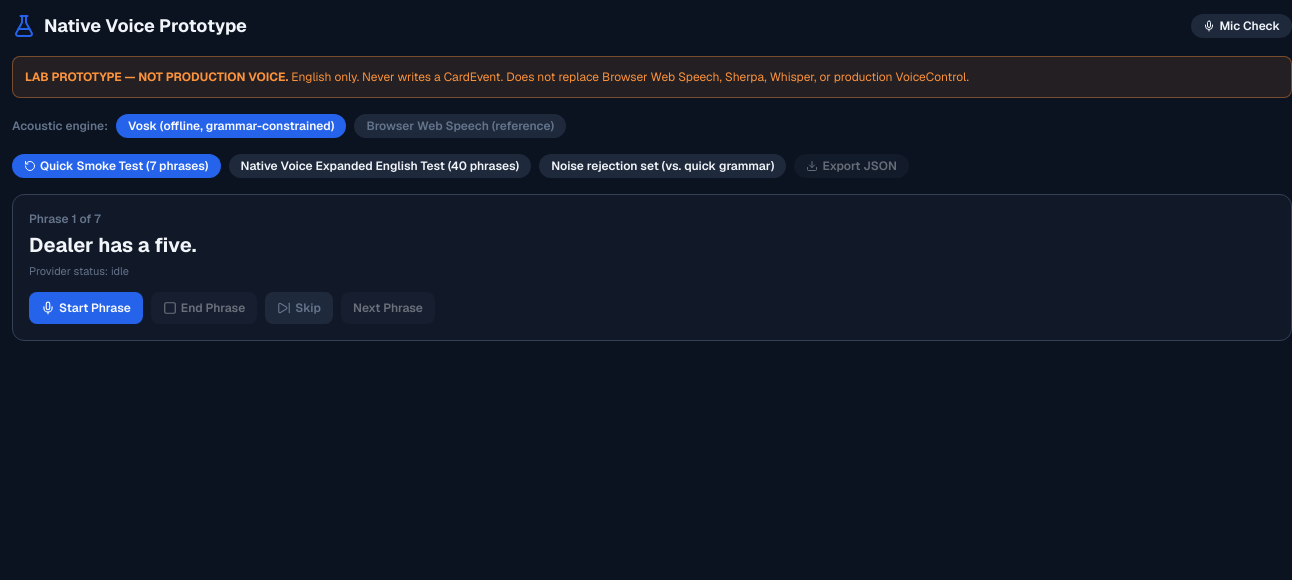
Native Voice Prototype Lab page › FALSE CARDEVENTS summary is always visible once a phrase is recorded, and reads 0 for a clean skipped-only session
Click the button "Skip".
click(299, 308)  # box [265,292,333,324]
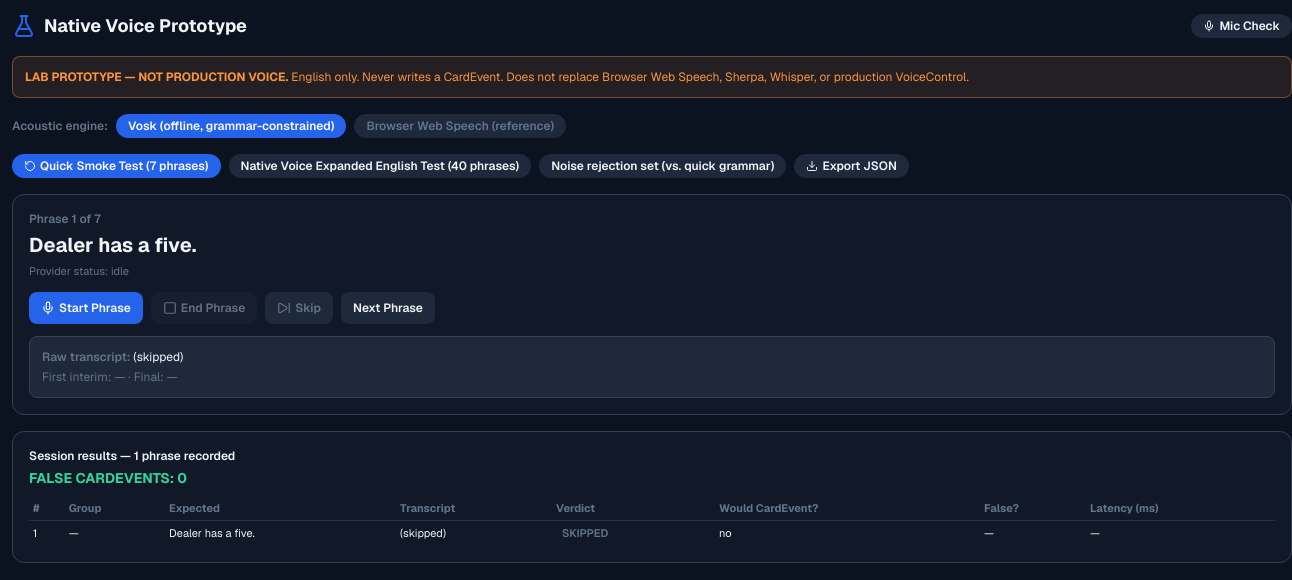
Now the text with test id "false-cardevents-summary" reads "FALSE CARDEVENTS: 0", box [29,468,187,486]
